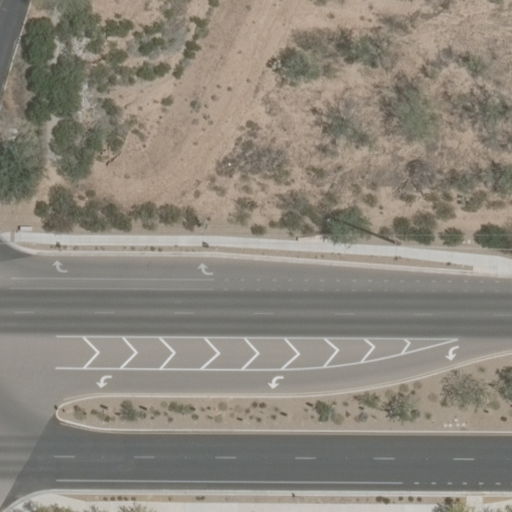DT: (374, 227, 407, 249)
